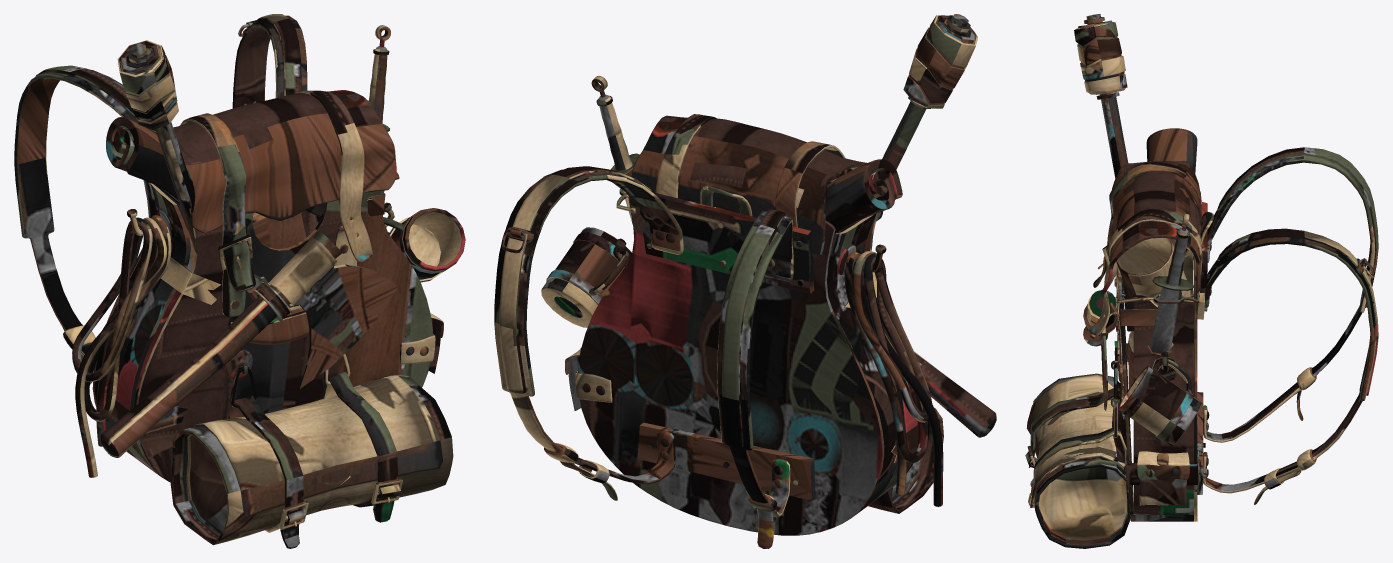
Rendered from backpack.glb.
3 renders of one model, left to right at view 1: azimuth 30°, elevation 25°; view 2: azimuth 150°, elevation 25°; view 3: azimuth 270°, elevation 25°, orthographic. The views are drawn at different scales.
Parts seen in each view (by area): view 1: Cylinder.030__0, Plane.008__0, Plane.011__0, Cube.050__0, Plane.014__0, Cube.037__0, BezierCurve.003__0, Cylinder.031__0, Cylinder.033__0, Plane.009__0, Cube.051__0, Cylinder.049__0 (+13 smaller); view 2: Plane.010__0, Cube.051__0, Plane.011__0, Cube.050__0, BezierCurve.003__0, Cube.030__0, Plane.009__0, Cube.032__0, Cylinder.049__0, Cylinder.034__0, Cube.047__0, Plane.014__0 (+5 smaller); view 3: Cylinder.030__0, Cube.050__0, Cube.051__0, Plane.009__0, Plane.011__0, Cylinder.049__0, Plane.014__0, Cylinder.034__0, Cylinder.035__0, Cylinder.032__0, Cylinder.031__0, Cube.053__0 (+10 smaller).
Part boxes in pixels (x1=…): Cylinder.030__0: x1=170, y1=374, x2=453, y2=545; Plane.008__0: x1=136, y1=190, x2=432, y2=482; Plane.011__0: x1=173, y1=90, x2=396, y2=233; Cube.050__0: x1=14, y1=65, x2=155, y2=384; Plane.014__0: x1=180, y1=90, x2=372, y2=316; Cube.037__0: x1=268, y1=237, x2=398, y2=388; BezierCurve.003__0: x1=72, y1=215, x2=171, y2=477; Cylinder.031__0: x1=228, y1=372, x2=400, y2=548; Cylinder.033__0: x1=100, y1=231, x2=341, y2=457; Plane.009__0: x1=94, y1=181, x2=190, y2=479; Cube.051__0: x1=232, y1=14, x2=307, y2=108; Cylinder.049__0: x1=383, y1=208, x2=465, y2=282; Plane.010__0: x1=578, y1=196, x2=884, y2=535; Cube.051__0: x1=494, y1=166, x2=683, y2=500; Plane.011__0: x1=630, y1=115, x2=883, y2=257; Cube.050__0: x1=717, y1=209, x2=793, y2=548; BezierCurve.003__0: x1=844, y1=251, x2=943, y2=506; Cube.030__0: x1=639, y1=192, x2=814, y2=293; Plane.009__0: x1=827, y1=213, x2=917, y2=515; Cube.032__0: x1=637, y1=422, x2=815, y2=500; Cylinder.049__0: x1=541, y1=227, x2=631, y2=327; Cylinder.034__0: x1=903, y1=15, x2=977, y2=108; Cube.047__0: x1=825, y1=159, x2=902, y2=235; Plane.014__0: x1=655, y1=114, x2=845, y2=227; Cylinder.030__0: x1=1026, y1=373, x2=1130, y2=548; Cube.050__0: x1=1203, y1=147, x2=1378, y2=442; Cube.051__0: x1=1203, y1=228, x2=1378, y2=504; Plane.009__0: x1=1133, y1=252, x2=1193, y2=521; Plane.011__0: x1=1101, y1=161, x2=1200, y2=294; Cylinder.049__0: x1=1118, y1=359, x2=1201, y2=445; Plane.014__0: x1=1090, y1=161, x2=1202, y2=364; Cylinder.034__0: x1=1074, y1=20, x2=1127, y2=94; Cylinder.035__0: x1=1116, y1=237, x2=1190, y2=305; Cylinder.032__0: x1=1150, y1=213, x2=1194, y2=353; Cylinder.031__0: x1=1025, y1=388, x2=1126, y2=507; Cube.053__0: x1=1125, y1=449, x2=1199, y2=505.
Size of the model in its own units: 3.74 by 4.63 by 3.47.
Materials: 1 (1 with a texture image).
